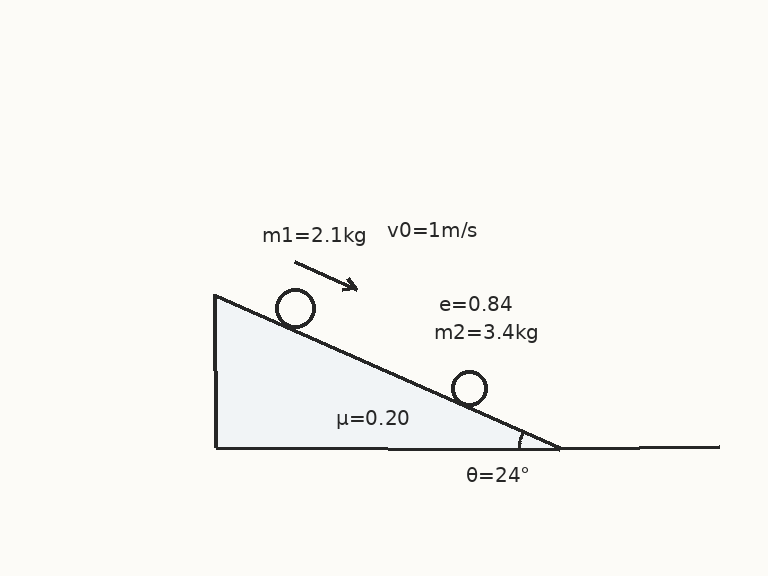ball: (273, 286, 317, 330), (449, 368, 489, 408)
ramp: (214, 293, 561, 450)
